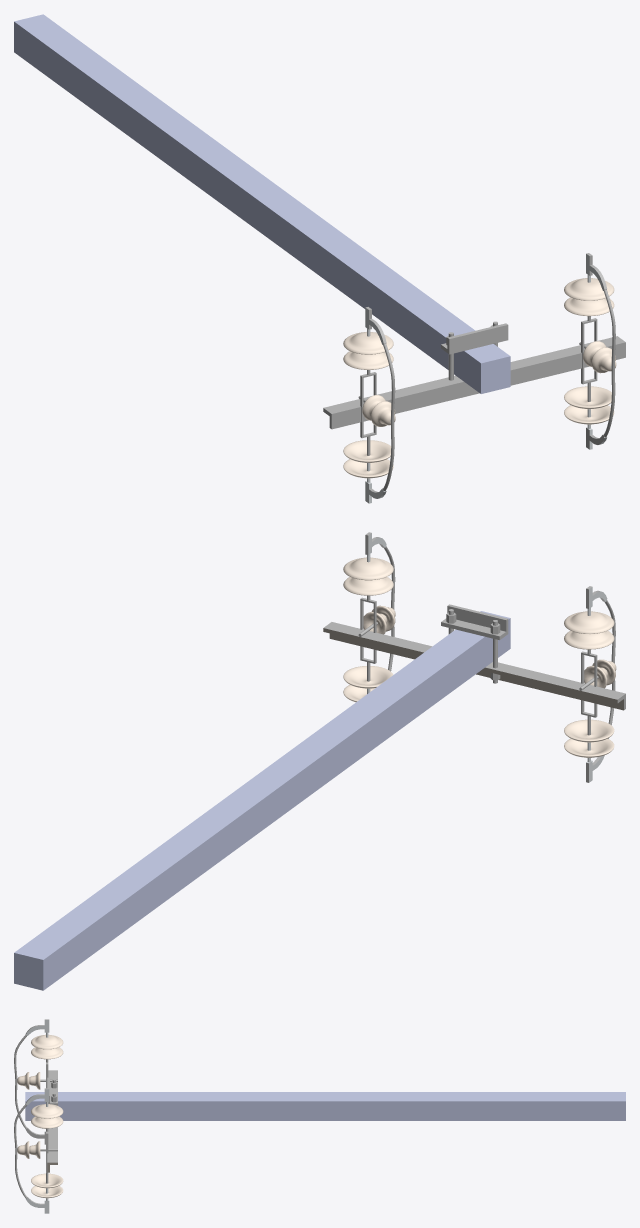
The model's file is elektr_1.obj.
The picture shows the model from 3 angles, top to bottom: view 1: azimuth 30°, elevation 25°; view 2: azimuth 150°, elevation 25°; view 3: azimuth 270°, elevation 25°; orthographic projection. The views are drawn at different scales.
Parts seen in each view (by area): view 1: ________0, ________7, ________4, ________1, ________5, ________6, ________2; view 2: ________0, ________2, ________6, ________5, ________7, ________4, ________1; view 3: ________0, ________4, ________7, ________2, ________6, ________1.
Part boxes in pixels (box(x1,y1,x2,y2)): ________0: box(14, 14, 625, 429); ________7: box(358, 307, 395, 503); ________4: box(579, 253, 616, 449); ________1: box(564, 382, 614, 428); ________5: box(343, 436, 393, 482); ________6: box(343, 328, 393, 374); ________2: box(564, 275, 614, 321); ________0: box(14, 604, 625, 990); ________2: box(343, 554, 393, 600); ________6: box(564, 608, 614, 654); ________5: box(564, 716, 614, 762); ________7: box(579, 586, 616, 782); ________4: box(358, 532, 395, 671); ________1: box(343, 662, 393, 702); ________0: box(25, 1070, 625, 1172); ________4: box(14, 1088, 57, 1213); ________7: box(14, 1019, 57, 1144); ________2: box(31, 1102, 63, 1131); ________6: box(31, 1032, 63, 1062); ________1: box(31, 1173, 63, 1200).
Size of the model in its own units: 0.04 by 0.0251 by 0.1121.
